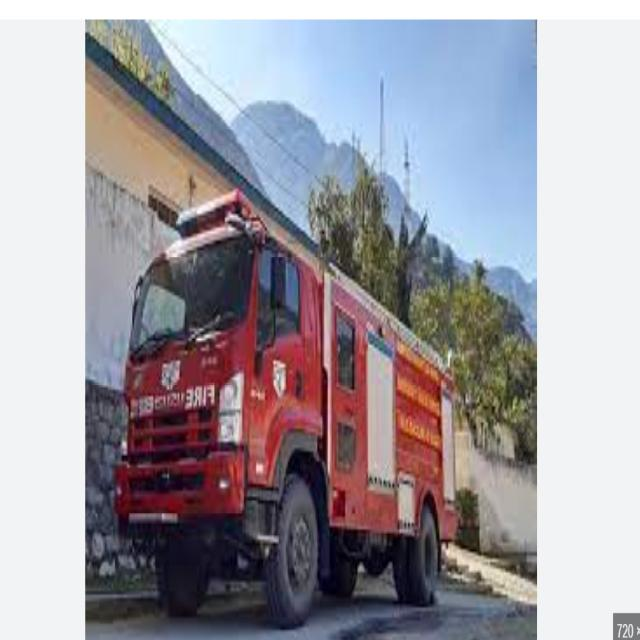fire brigade: (125, 246, 455, 596)
